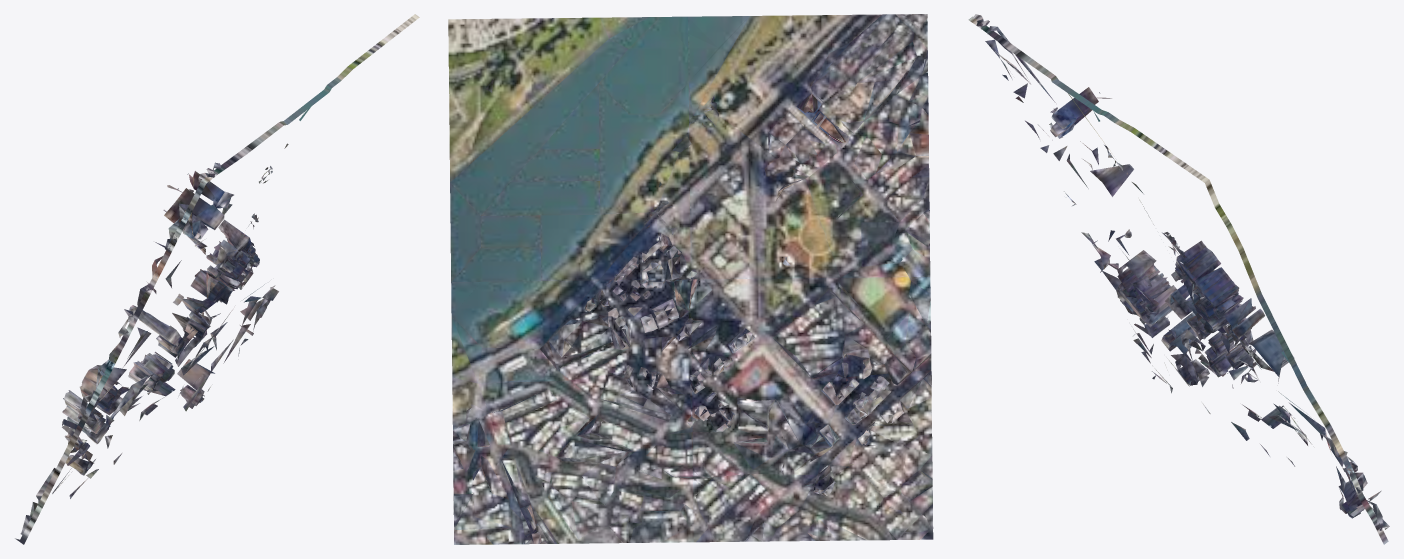
The picture shows the model from 3 angles, left to right: view 1: azimuth 30°, elevation 25°; view 2: azimuth 150°, elevation 25°; view 3: azimuth 270°, elevation 25°; orthographic projection. The views are drawn at different scales.
Size of the model in its own units: 1235 by 1116 by 1033.
Materials: 2 (2 with a texture image).
